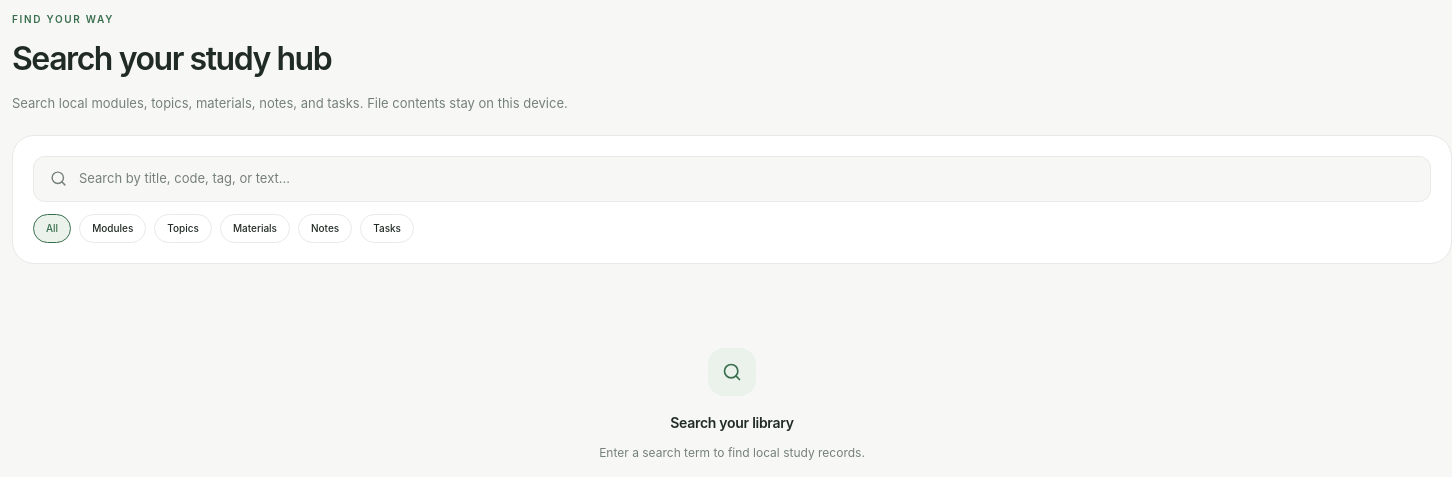
Test: SearchPage › reports local search failures clearly
Type "biology" into the search field named "Search all study records" at (746, 179), box [79,169,1414,188]
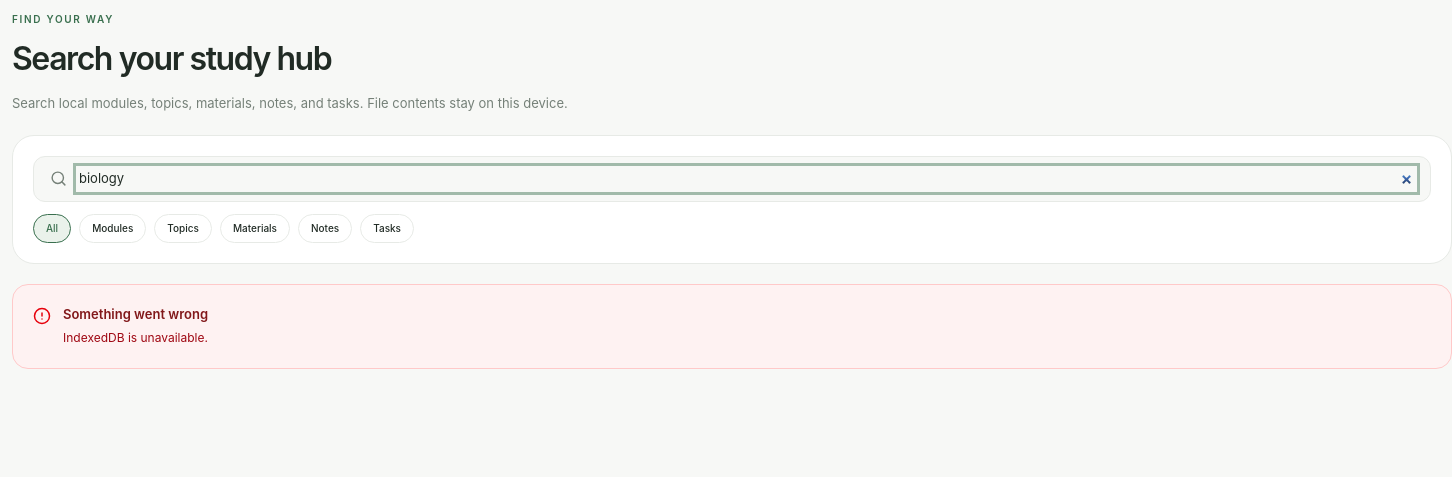
Expected: the message shows "IndexedDB is unavailable.", [63,330,208,345]
